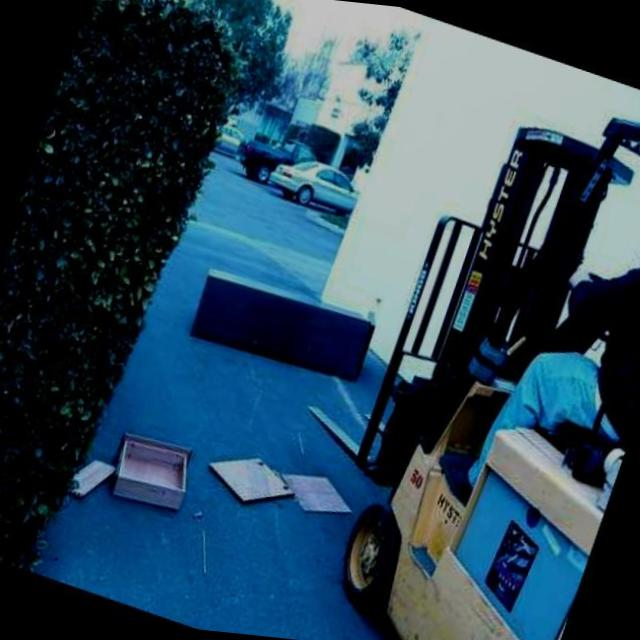driver: (451, 179, 640, 542)
forklift: (289, 40, 640, 640)
